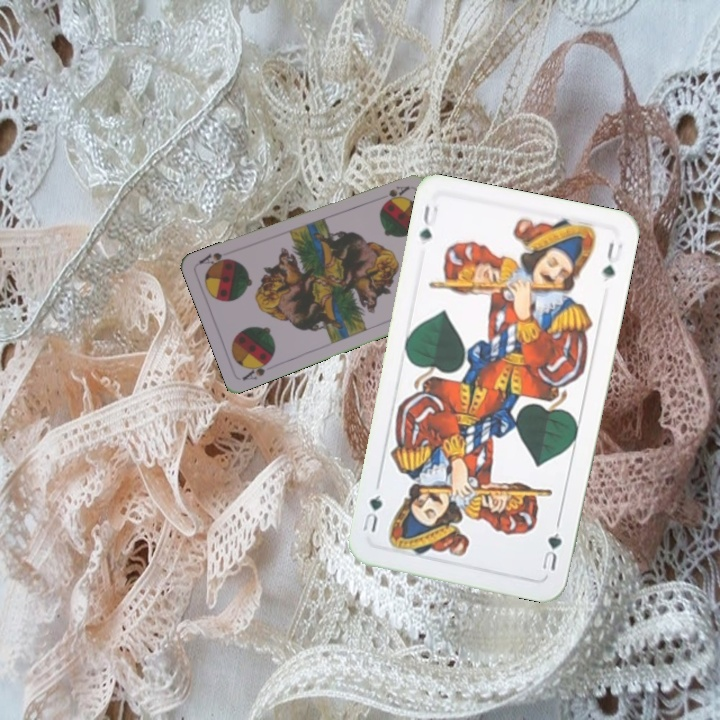GU: (538, 518, 565, 573), (415, 200, 441, 243)
SA: (239, 355, 275, 383), (384, 182, 411, 200)
